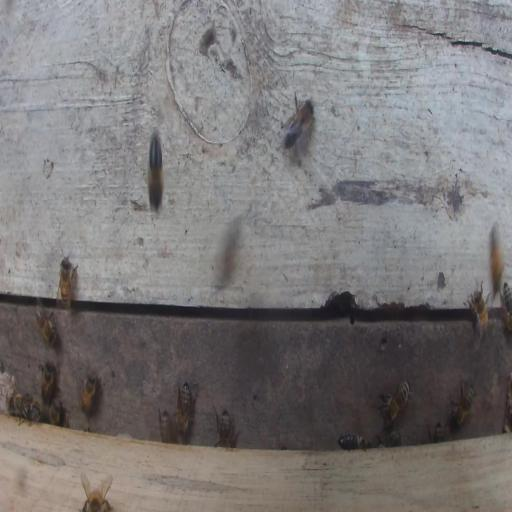nonpollenbee: (281, 90, 315, 156), (378, 379, 411, 428), (467, 281, 489, 348), (80, 472, 113, 511), (449, 379, 475, 428), (149, 129, 163, 213), (57, 254, 78, 309), (175, 380, 194, 440), (34, 303, 58, 345), (490, 221, 504, 291), (214, 408, 237, 448), (80, 373, 97, 416), (40, 361, 56, 405), (501, 280, 512, 333), (337, 432, 369, 450), (10, 392, 29, 421), (158, 408, 172, 443), (377, 430, 401, 447), (49, 400, 62, 426), (433, 421, 444, 442), (30, 400, 41, 421)
